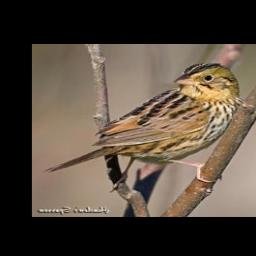Sparrow: (41, 61, 245, 193)
